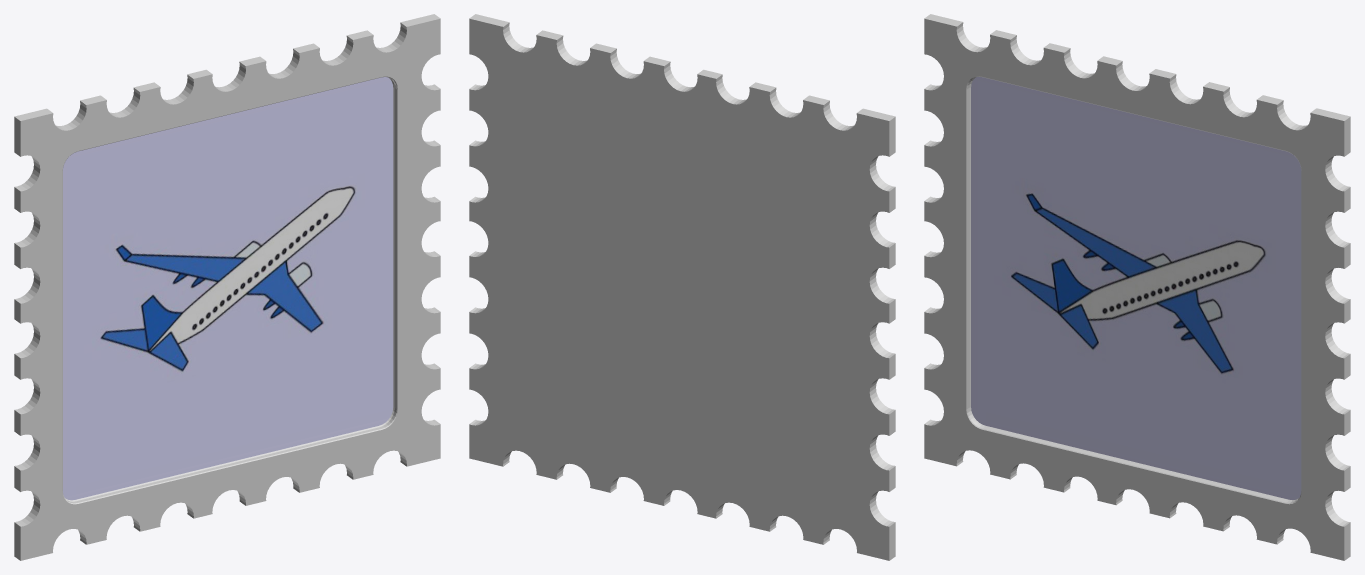
Rendered from B_Olivia_18.glb.
3 views of the same model, side by side, from view 1: azimuth 30°, elevation 25°; view 2: azimuth 150°, elevation 25°; view 3: azimuth 330°, elevation 25° (orthographic).
Visible parts, largest first — view 1: Plane019, Plane018; view 2: Plane018; view 3: Plane019, Plane018.
Boxes of the visible parts, left/top/right/bottom form: Plane019: left=63, top=77, right=393, bottom=500; Plane018: left=14, top=14, right=440, bottom=560; Plane018: left=469, top=14, right=895, bottom=560; Plane019: left=971, top=77, right=1301, bottom=499; Plane018: left=924, top=14, right=1350, bottom=560.
Size of the model in its own units: 0.3 by 0.3 by 0.00781.
Materials: 2 (1 with a texture image).
